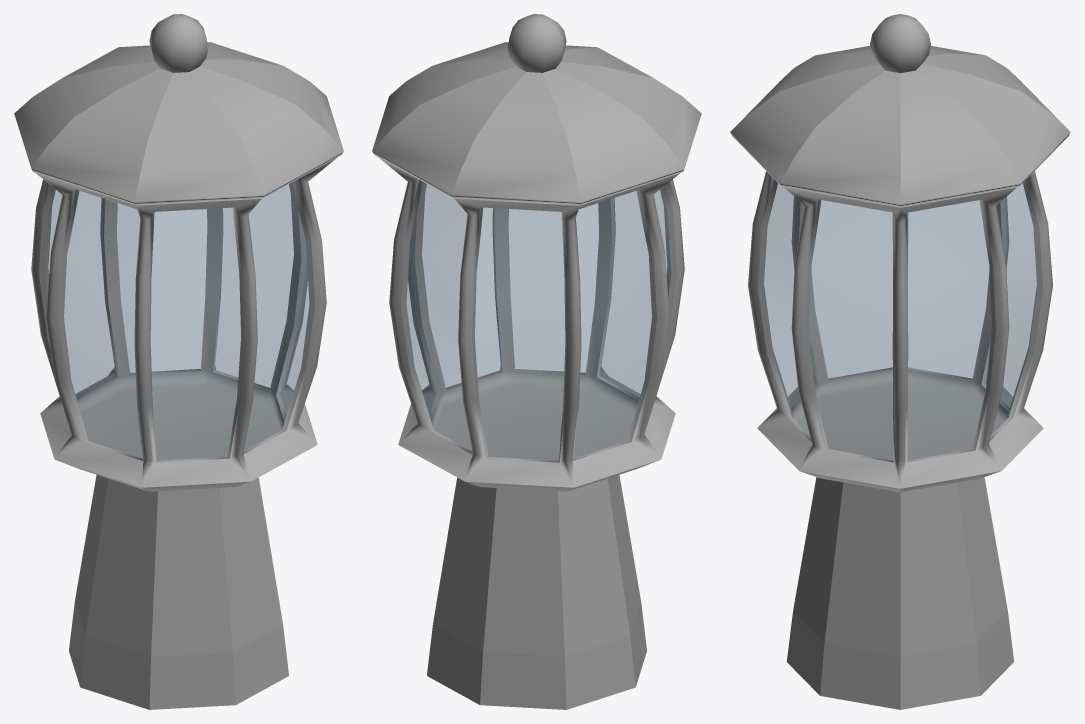
File: itemMesh_windmillIs_lightShort.fbx
3 renders of one model, left to right at view 1: azimuth 30°, elevation 25°; view 2: azimuth 150°, elevation 25°; view 3: azimuth 270°, elevation 25°, orthographic.
Parts seen in each view (by area): view 1: Lantern1Low, Lantern1Lid1; view 2: Lantern1Low, Lantern1Lid1; view 3: Lantern1Low, Lantern1Lid1.
Part boxes in pixels (left/top/right/bottom): Lantern1Low: left=31, top=157, right=337, bottom=709; Lantern1Lid1: left=14, top=14, right=343, bottom=205; Lantern1Low: left=378, top=157, right=684, bottom=709; Lantern1Lid1: left=372, top=14, right=701, bottom=205; Lantern1Low: left=748, top=171, right=1052, bottom=709; Lantern1Lid1: left=730, top=14, right=1070, bottom=207.
Bounding box in the file's own units: 0.557 × 1.16 × 0.557.
